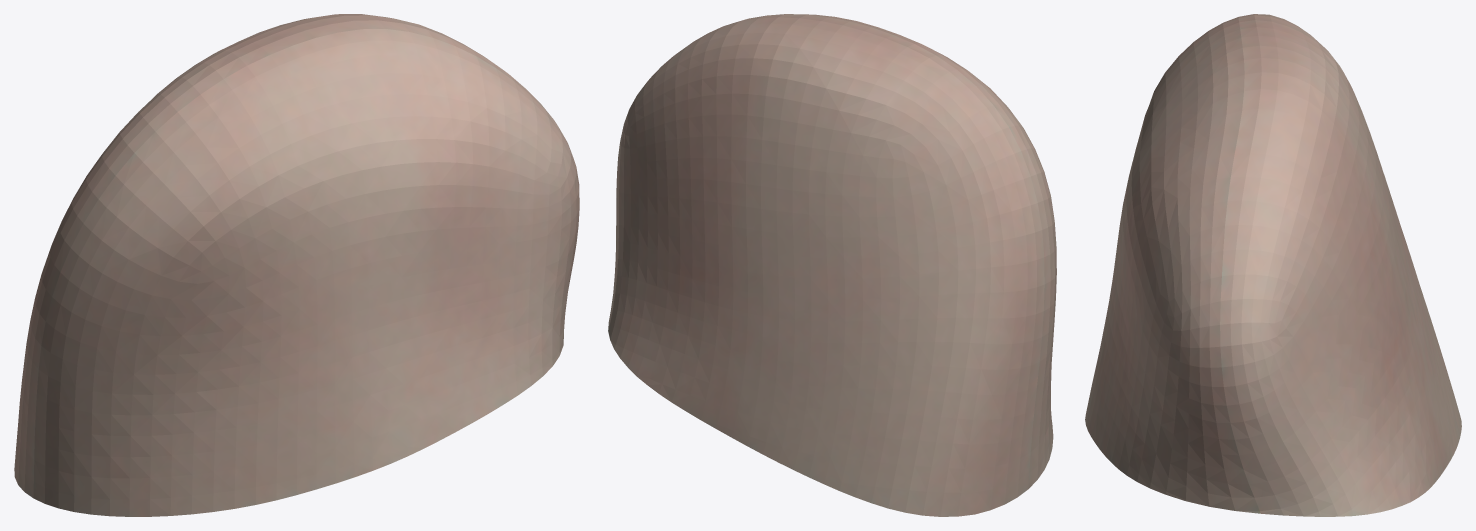
File: stom_fundus_LP.glb
The picture shows the model from 3 angles, left to right: view 1: azimuth 30°, elevation 25°; view 2: azimuth 150°, elevation 25°; view 3: azimuth 270°, elevation 25°; orthographic projection. The views are drawn at different scales.
Visible parts, largest first — view 1: stom_fundus_LP; view 2: stom_fundus_LP; view 3: stom_fundus_LP.
Boxes of the visible parts, x1=… form: stom_fundus_LP: x1=14, y1=14, x2=579, y2=516; stom_fundus_LP: x1=608, y1=14, x2=1056, y2=516; stom_fundus_LP: x1=1085, y1=14, x2=1461, y2=516.
Bounding box in the file's own units: 0.00142 × 0.0012 × 0.000921.
Materials: 1 (1 with a texture image).
